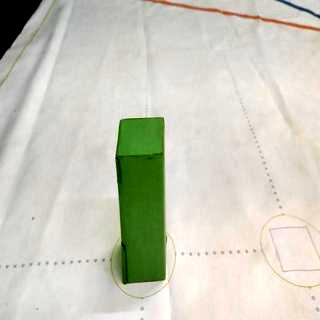greenbox: (115, 117, 172, 285)
